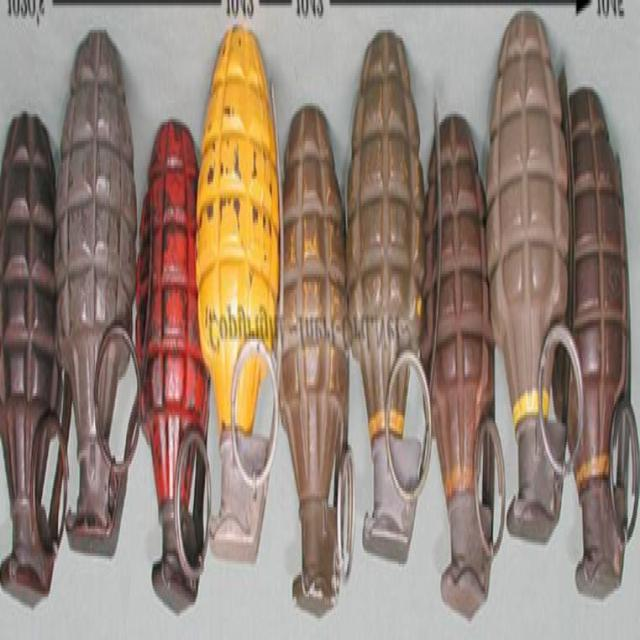grenade: (486, 9, 585, 546), (347, 26, 444, 571), (58, 27, 146, 560), (198, 25, 284, 565), (554, 88, 640, 603), (423, 112, 506, 628), (278, 105, 356, 622), (136, 115, 216, 608), (1, 109, 75, 606)
